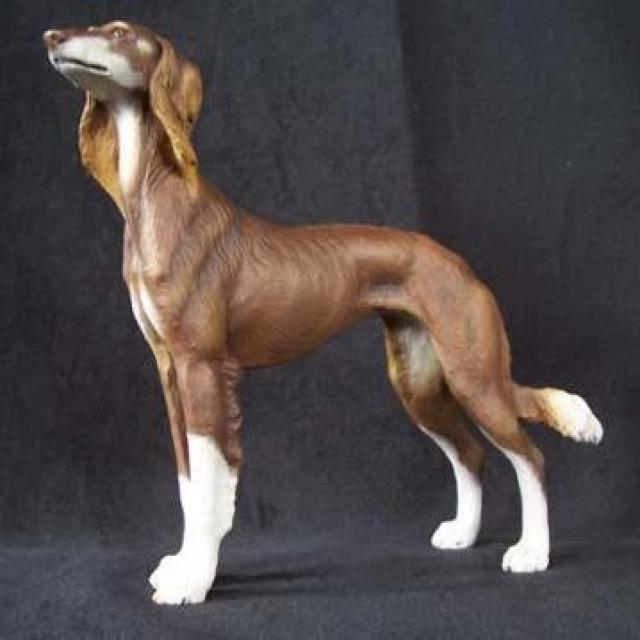saluki: (39, 14, 603, 604)
